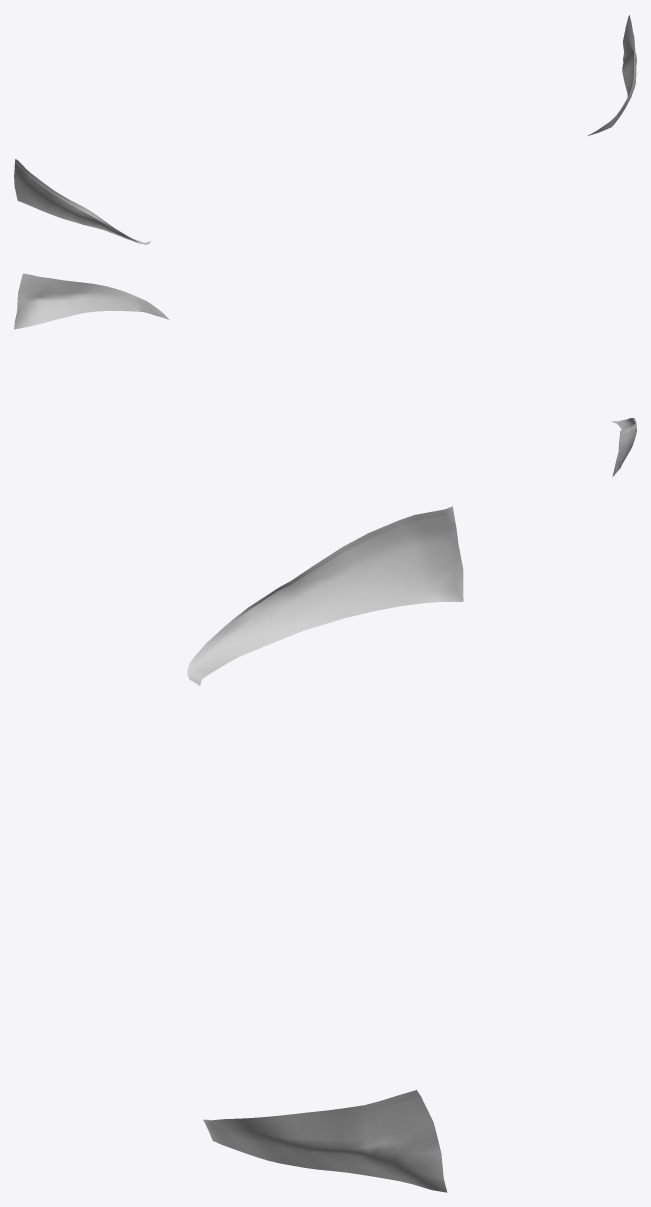
File: Pants_COP_Knee_Face.glb
The picture shows the model from 3 angles, top to bottom: view 1: azimuth 30°, elevation 25°; view 2: azimuth 150°, elevation 25°; view 3: azimuth 270°, elevation 25°; orthographic projection. The views are drawn at different scales.
Parts seen in each view (by area): view 1: Pants_COP_Knee_Face1; view 2: Pants_COP_Knee_Face1; view 3: Pants_COP_Knee_Face1.
Boxes of the visible parts, bbox=[...] form: Pants_COP_Knee_Face1: bbox=[14, 15, 636, 244]; Pants_COP_Knee_Face1: bbox=[14, 273, 636, 476]; Pants_COP_Knee_Face1: bbox=[187, 506, 463, 1192].
Bounding box in the file's own units: 0.7585 × 0.0731 × 0.1493.
2 materials, 2 textured.
